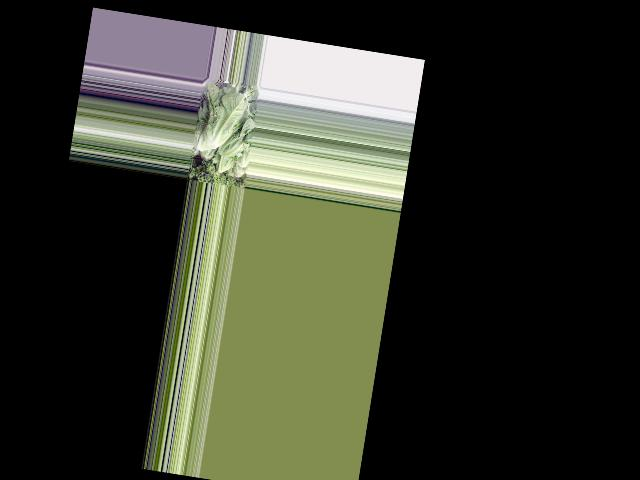lettuce: (218, 112, 253, 162)
